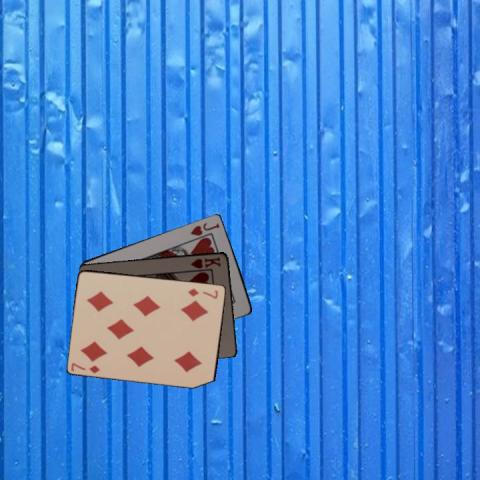7d: (186, 285, 220, 300), (68, 360, 101, 375)
Jh: (187, 219, 221, 237)
Kh: (188, 254, 222, 270)
